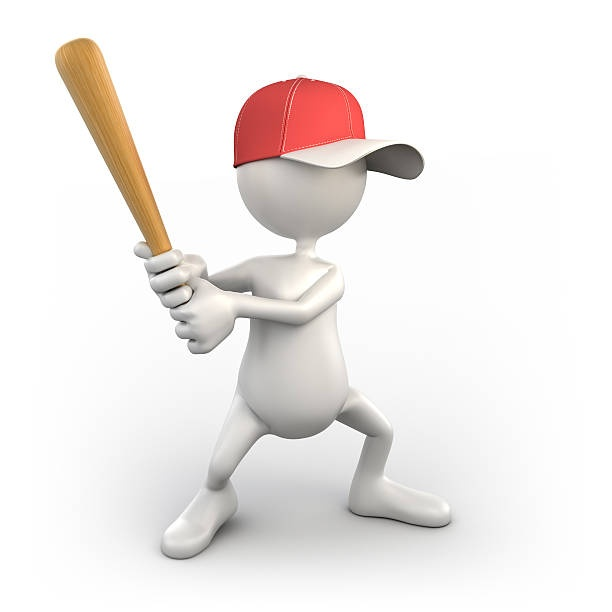bita: (48, 34, 174, 248)
